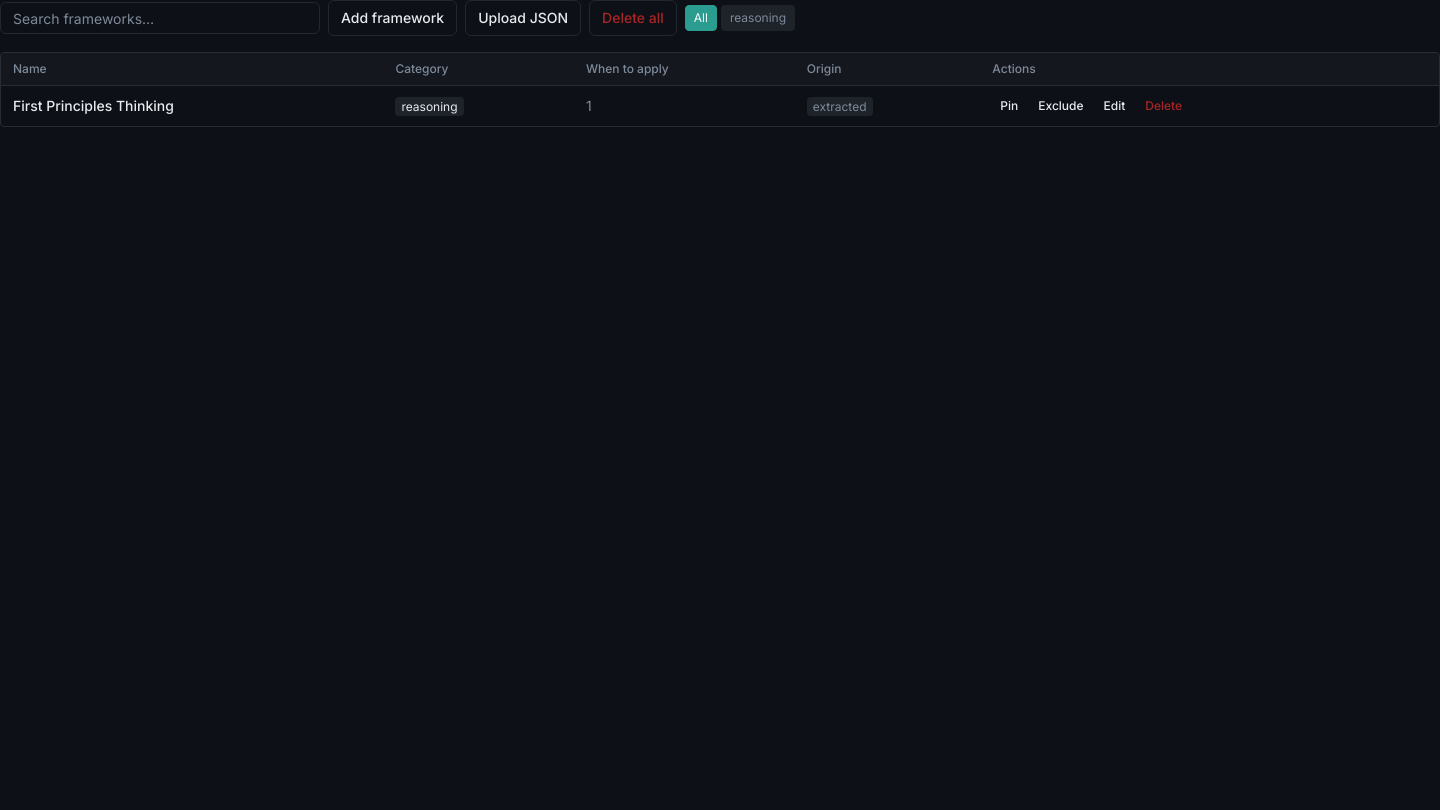
Scenario: FrameworkLibraryTab — KIN-320 (edit, add, upload) › edit form › all fields render with existing values populated
expect the text "First Principles Thinking" is shown: met, box top-left (13, 97), bottom-right (174, 114)
Click the button "Edit".
click(1114, 106)  # box top-left (1096, 94), bottom-right (1133, 118)
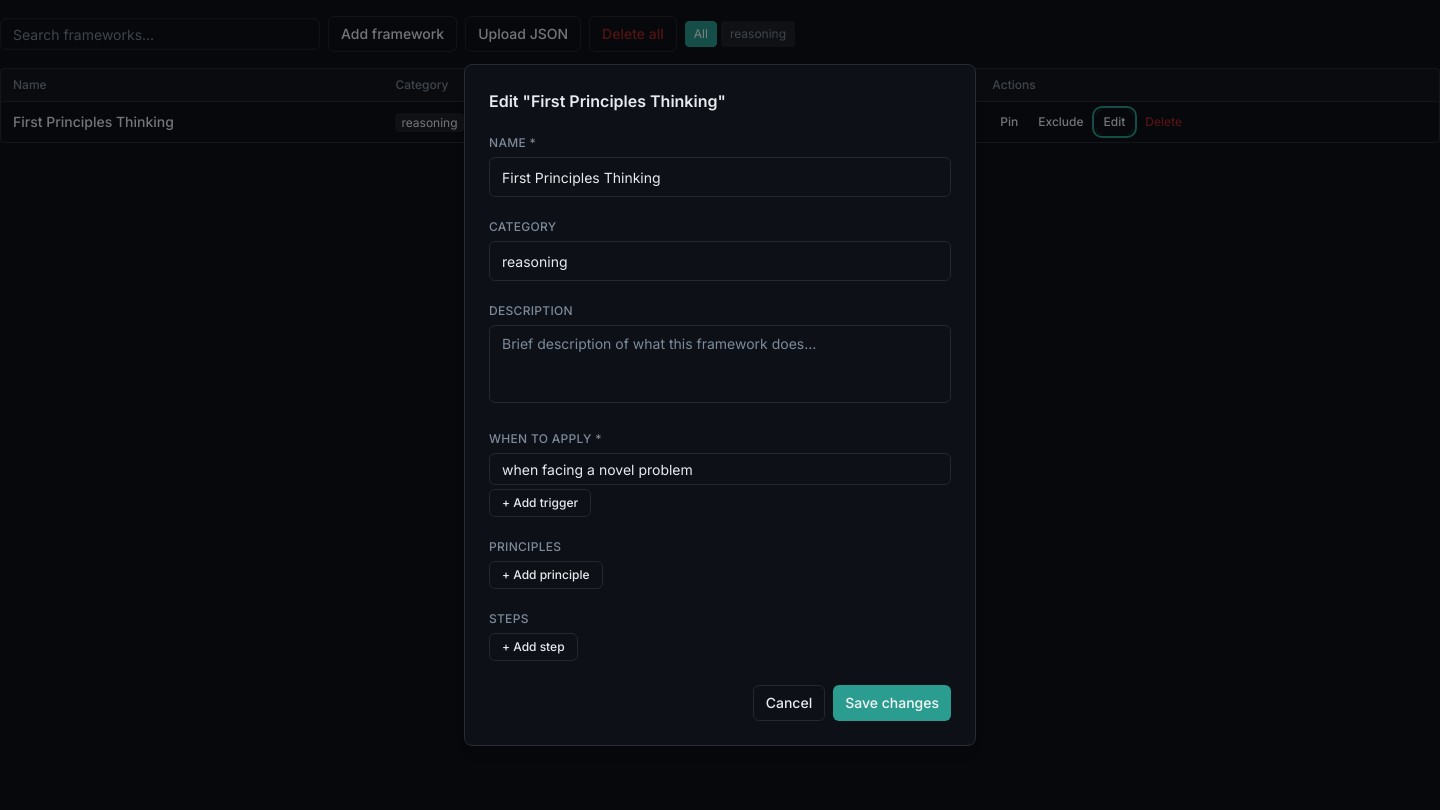
expect the heading "Edit \"First Principles Thinking\"" is shown: met, box top-left (489, 91), bottom-right (726, 111)
expect the field showing "First Principles Thinking" below "Name *" is shown: met, box top-left (489, 157), bottom-right (951, 197)
expect the field showing "when facing a novel problem" below "When to apply *" is shown: met, box top-left (489, 453), bottom-right (951, 485)
